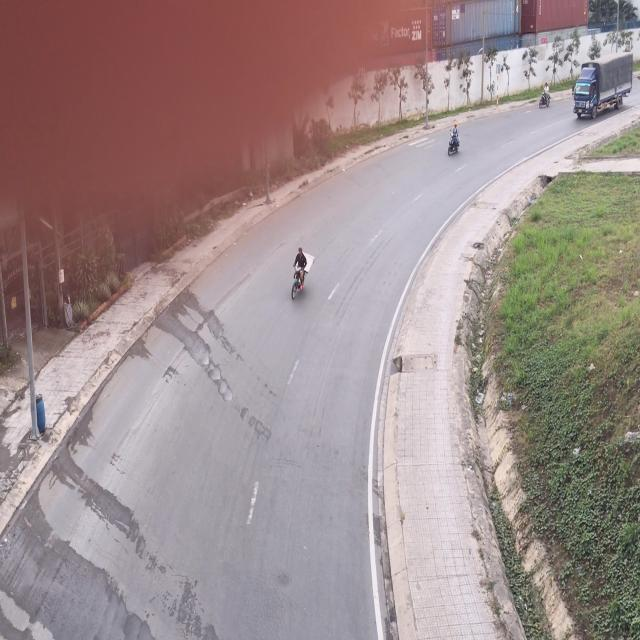motorbike: (288, 247, 308, 303), (538, 81, 552, 112), (448, 123, 460, 158)
truck: (572, 56, 632, 120)
